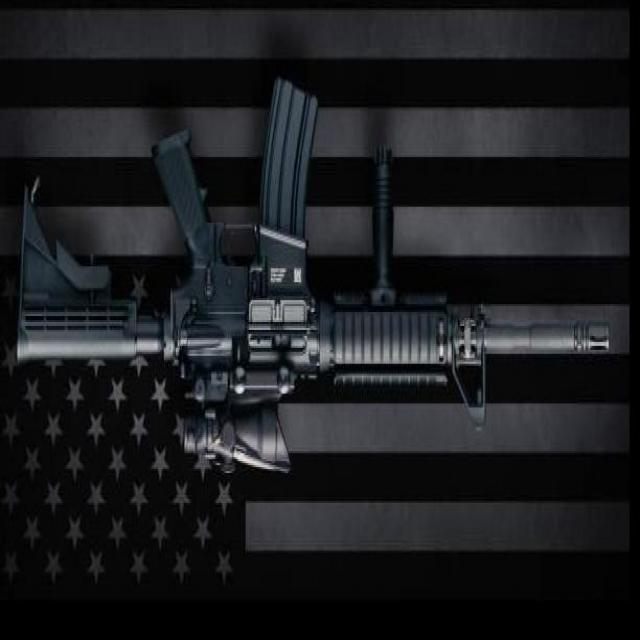heavy-weapon: (17, 79, 611, 475)
